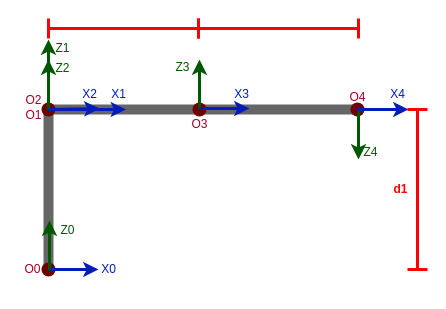
Some shapes in this 446 by 309 pixel diagram are drawn without their labels. Each missing label, with the box of its shape:
a2: (46, 16, 200, 40)
a3: (196, 16, 360, 40)
